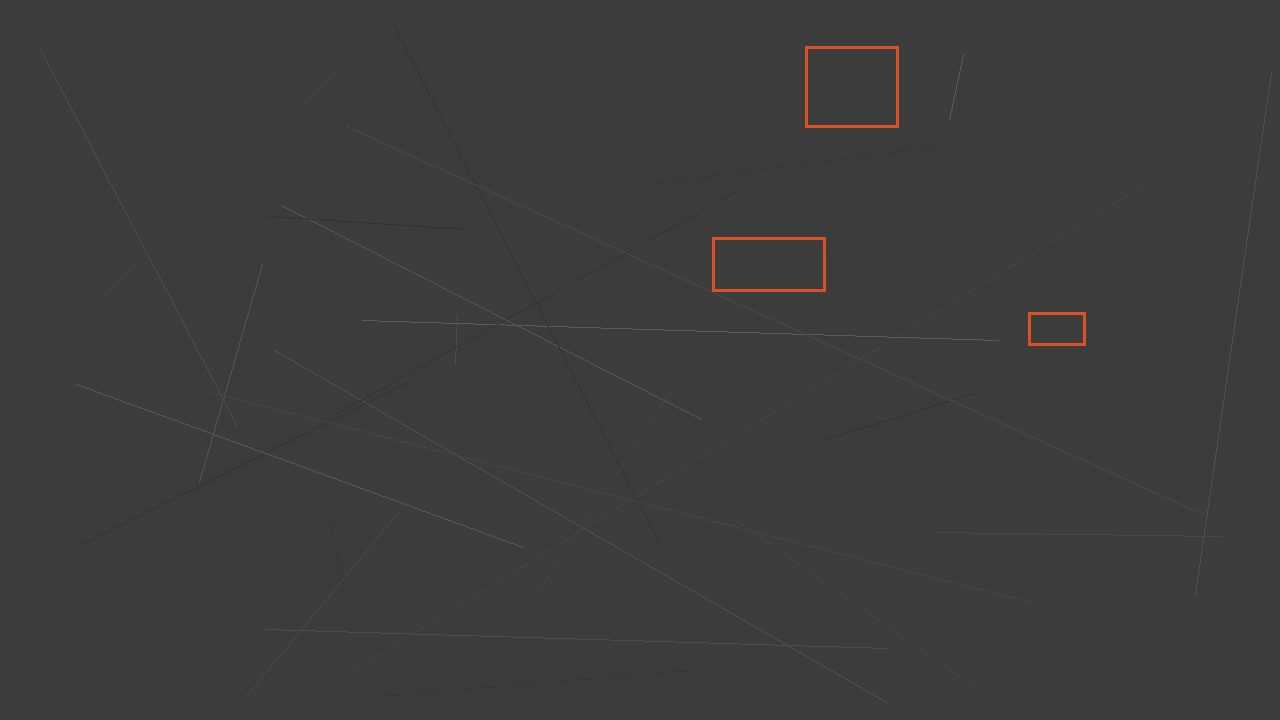D20: (805, 46, 898, 127), (712, 237, 825, 291), (1028, 312, 1085, 345)
